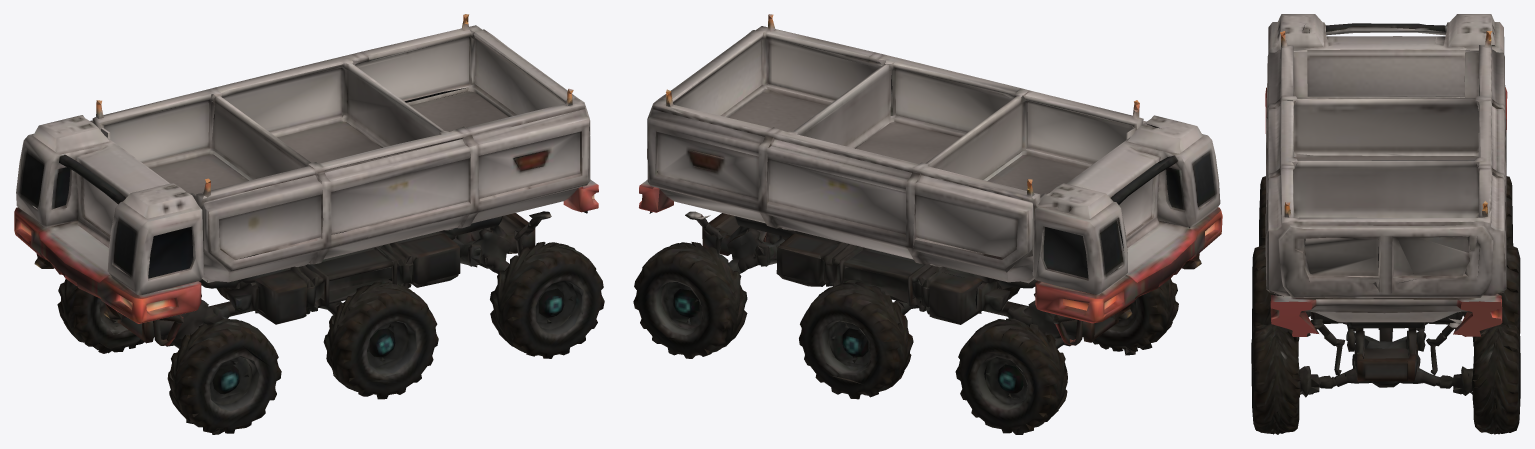
The model's file is cargo_rover.glb.
3 views of the same model, side by side, from view 1: azimuth 30°, elevation 25°; view 2: azimuth 150°, elevation 25°; view 3: azimuth 270°, elevation 25° (orthographic). The views are drawn at different scales.
Parts seen in each view (by area): view 1: LOW; view 2: LOW; view 3: LOW.
Part boxes in pixels (x1=…): LOW: x1=14, y1=14, x2=604, y2=434; LOW: x1=633, y1=14, x2=1222, y2=434; LOW: x1=1251, y1=14, x2=1520, y2=434.
Size of the model in its own units: 1.13 by 0.5745 by 0.5793.
1 material, 1 textured.
